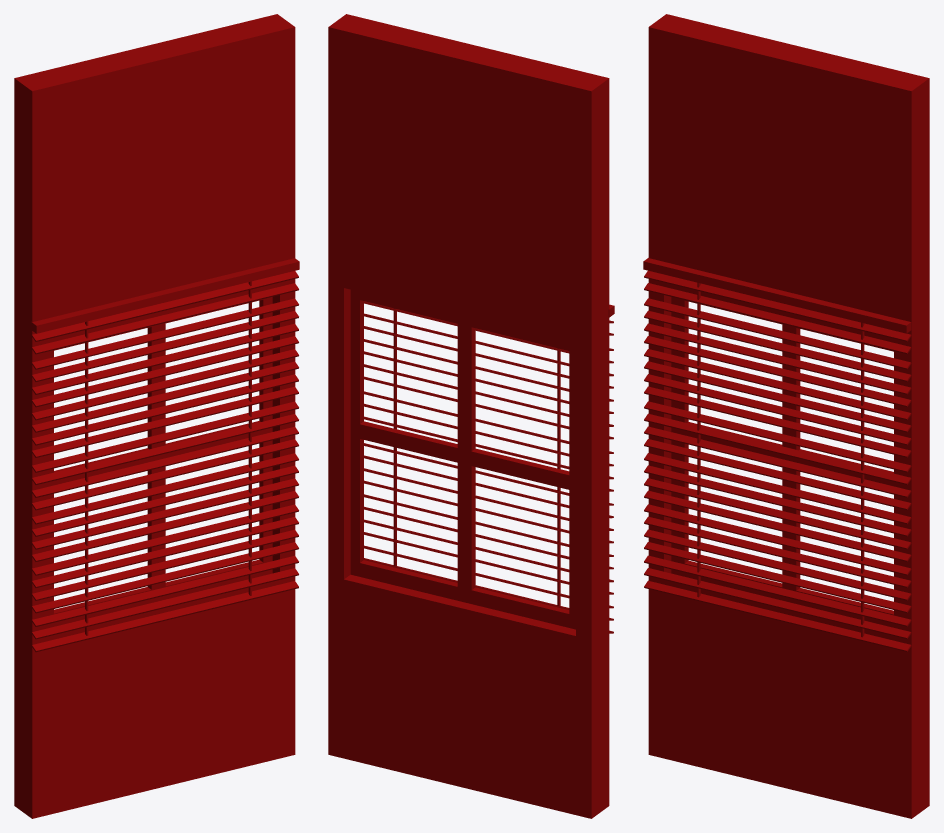
File: Fenetre.FBX
3 views of the same model, side by side, from view 1: azimuth 30°, elevation 25°; view 2: azimuth 150°, elevation 25°; view 3: azimuth 330°, elevation 25° (orthographic).
Parts seen in each view (by area): view 1: mur_avec_stores; view 2: mur_avec_stores; view 3: mur_avec_stores.
Part boxes in pixels (<box>): mur_avec_stores: <box>14,14,299,818</box>; mur_avec_stores: <box>328,14,614,818</box>; mur_avec_stores: <box>643,14,929,818</box>.
Bounding box in the file's own units: 1.5 × 0.2227 × 3.96.
